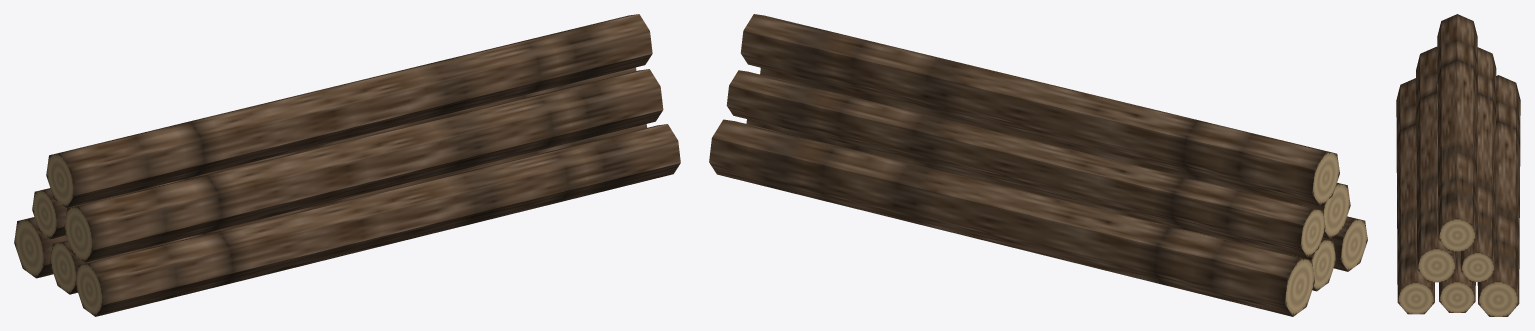
File: klady.glb
3 views of the same model, side by side, from view 1: azimuth 30°, elevation 25°; view 2: azimuth 150°, elevation 25°; view 3: azimuth 270°, elevation 25° (orthographic). The views are drawn at different scales.
Visible parts, largest first — view 1: klady; view 2: klady; view 3: klady.
Boxes of the visible parts, <box> form: klady: <box>14,14,680,316</box>; klady: <box>709,14,1367,316</box>; klady: <box>1396,14,1520,316</box>.
Bounding box in the file's own units: 3.99 × 0.917 × 1.03.
1 material, 1 textured.
